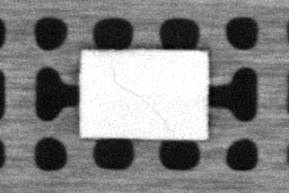DIE_CRACK: (109, 64, 171, 131)
